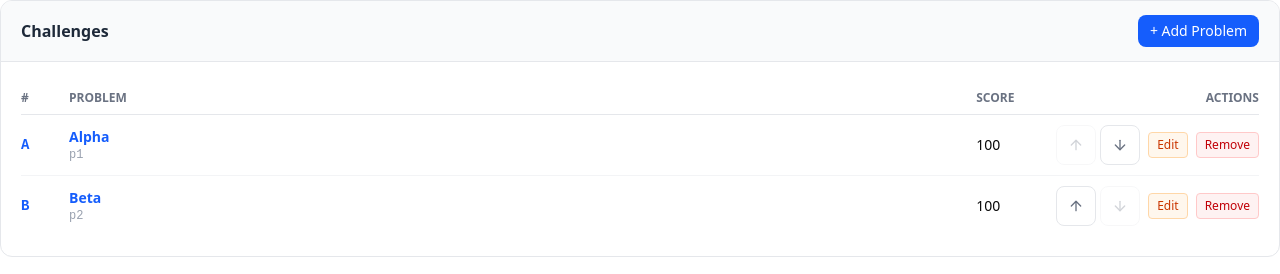
Test: moving a problem up persists new indexes and confirms success
Expected: the link "Alpha" is shown, [69,127,110,146]
What coordinates should you click on to do the following:
click the button named "Move Beta up"
I would click on:
 (1076, 206)
Its box is [1056,186,1096,226].
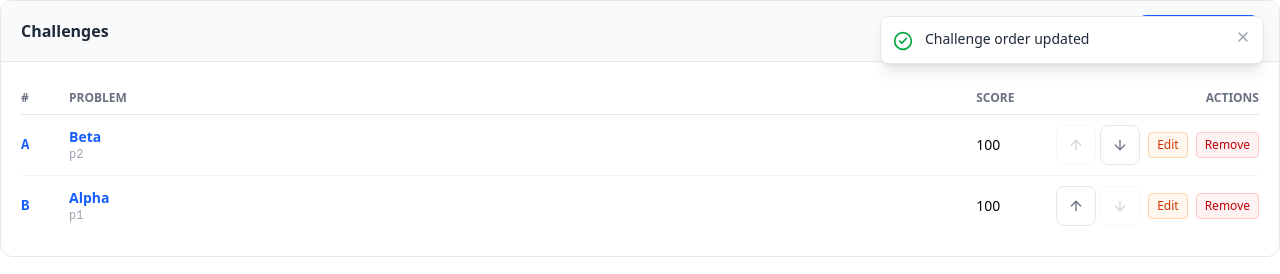
Expected: the row "A Beta p2 100 Edit Remove" is shown, [21,114,1259,176]
Expected: the text "Challenge order updated" is shown, [925,29,1090,48]
